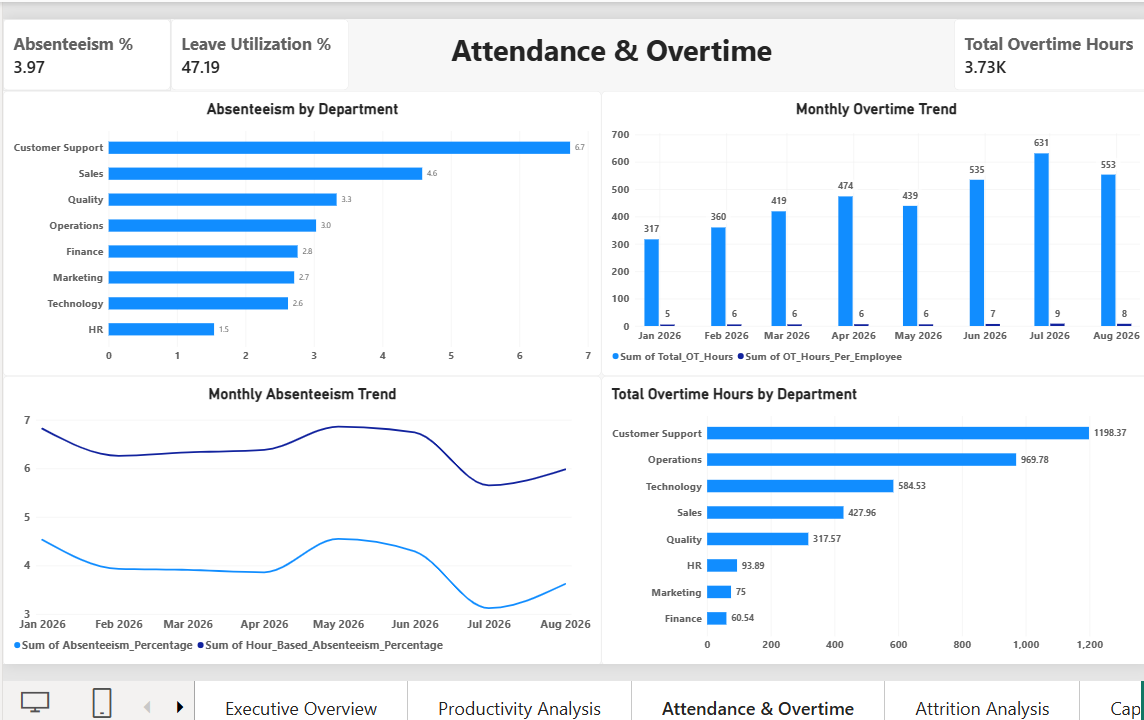

Layout of this report page (visuals, bound fields, positions):
{"tool":"powerbi","page":{"name":"Attendance & Overtime","canvas":[1920,1080],"ordinal":2},"visuals":[{"type":"cardVisual","fields":{"Data":["executive_kpi_summary.Absenteeism %"]},"box":[0,0,280.6,119.2],"z":0},{"type":"cardVisual","fields":{"Data":["executive_kpi_summary.Leave Utilization %"]},"box":[280.6,0,297.9,119.2],"z":1000},{"type":"cardVisual","fields":{"Data":["executive_kpi_summary.Total Overtime Hours"]},"box":[1591.5,0,327.7,119.2],"z":2000},{"type":"clusteredBarChart","title":"Absenteeism by Department","fields":{"Category":["department_attendance_analysis.Department"],"Y":["Sum(department_attendance_analysis.Absenteeism_Percentage)"]},"box":[0,119.2,1000.6,476.7],"z":3000},{"type":"lineChart","title":"Monthly Absenteeism Trend","fields":{"Y":["Sum(monthly_attendance_analysis.Absenteeism_Percentage)","Sum(monthly_attendance_analysis.Hour_Based_Absenteeism_Percentage)"],"Category":["monthly_attendance_analysis.Month"]},"box":[0,595.9,1000.6,484.1],"z":4000},{"type":"clusteredBarChart","title":"Total Overtime Hours by Department","fields":{"Category":["department_overtime_analysis.Department"],"Y":["Sum(department_overtime_analysis.Total_OT_Hours)"]},"box":[1000.6,595.9,918.6,484.1],"z":5000},{"type":"lineClusteredColumnComboChart","title":"Monthly Overtime Trend","fields":{"Y":["Sum(monthly_overtime_analysis.Total_OT_Hours)","Sum(monthly_overtime_analysis.OT_Hours_Per_Employee)"],"Category":["monthly_overtime_analysis.Month"]},"box":[1000.6,119.2,918.6,476.7],"z":6000},{"type":"textbox","box":[717.5,0,600.8,119.2],"z":7000}]}

Visuals, with their boxes on the page's 1920x1080 design canvas (x1, y1, x2, y2). These are canvas units, not pixel positions in the 1144x720 screenshot, which may show the page scaled, cropped or inside an application window:
cardVisual - executive_kpi_summary.Absenteeism %: crop(0, 0, 281, 119)
cardVisual - executive_kpi_summary.Leave Utilization %: crop(281, 0, 578, 119)
cardVisual - executive_kpi_summary.Total Overtime Hours: crop(1592, 0, 1919, 119)
"Absenteeism by Department" clusteredBarChart: crop(0, 119, 1001, 596)
"Monthly Absenteeism Trend" lineChart: crop(0, 596, 1001, 1080)
"Total Overtime Hours by Department" clusteredBarChart: crop(1001, 596, 1919, 1080)
"Monthly Overtime Trend" lineClusteredColumnComboChart: crop(1001, 119, 1919, 596)
textbox: crop(718, 0, 1318, 119)
